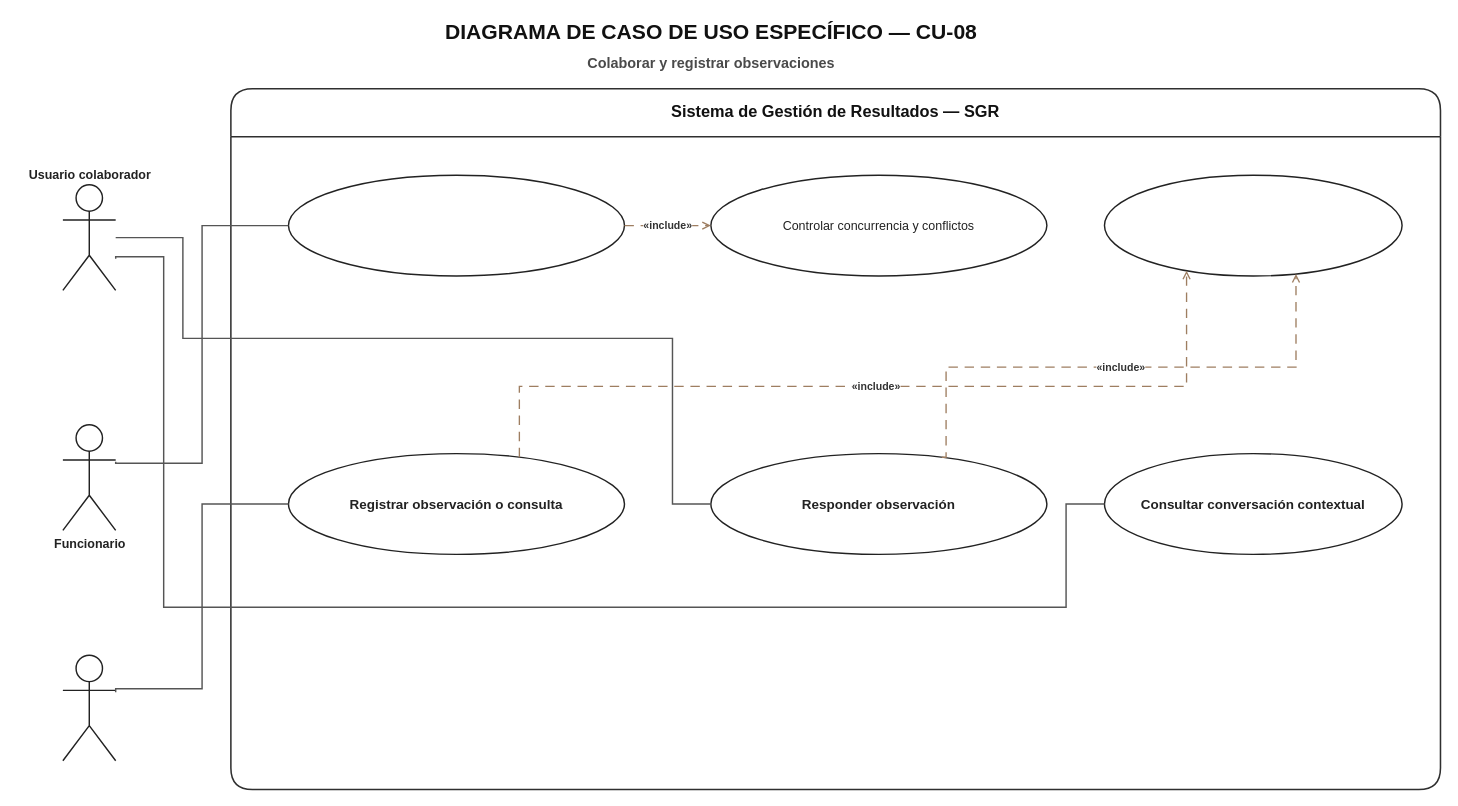
This 1458x806 diagram has some shape labels left out. Each missing label, with the centre of its shape:
"Coordinador del sistema" belongs at point (89, 707).
"Guardar conversación con trazabilidad" belongs at point (1252, 225).
"Trabajar simultáneamente en registros" belongs at point (456, 225).
